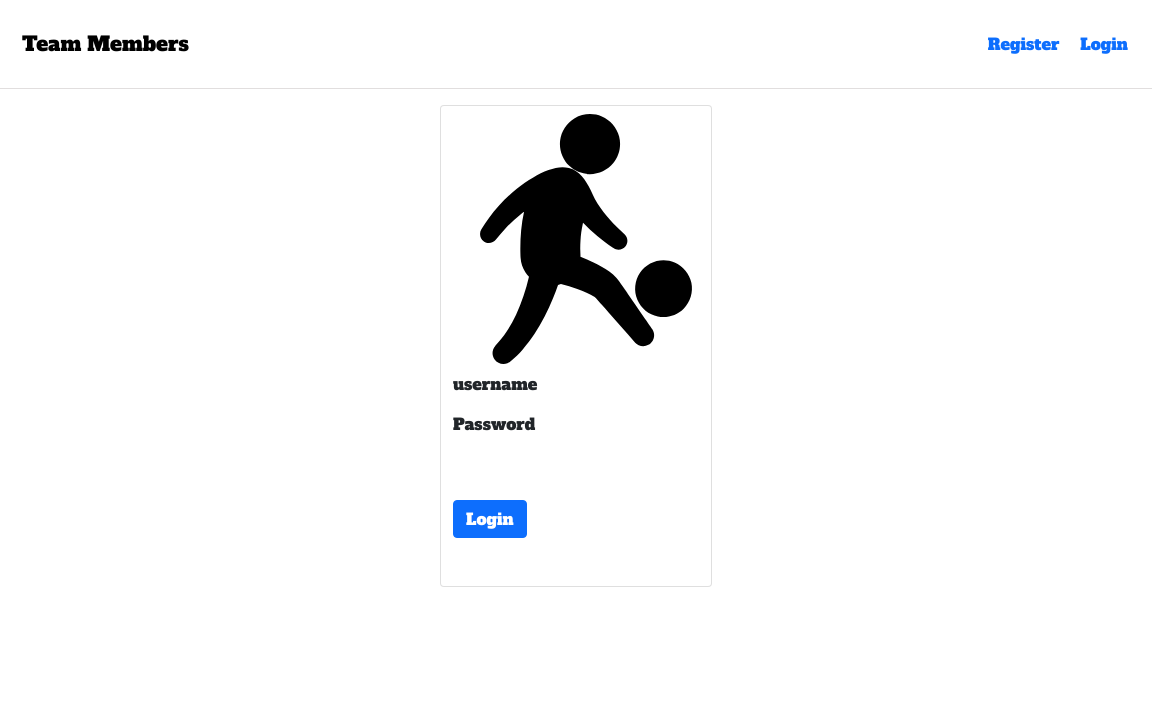
Test: renders the app - navbar links work correctly
The image size is (1152, 720).
Expected: the link "Team Members" is shown, [16,24,189,64]
Expected: the element with test id "login-container" is shown, [440,105,712,587]
Click the link "Register".
click(1021, 44)  # box [983,33,1060,55]
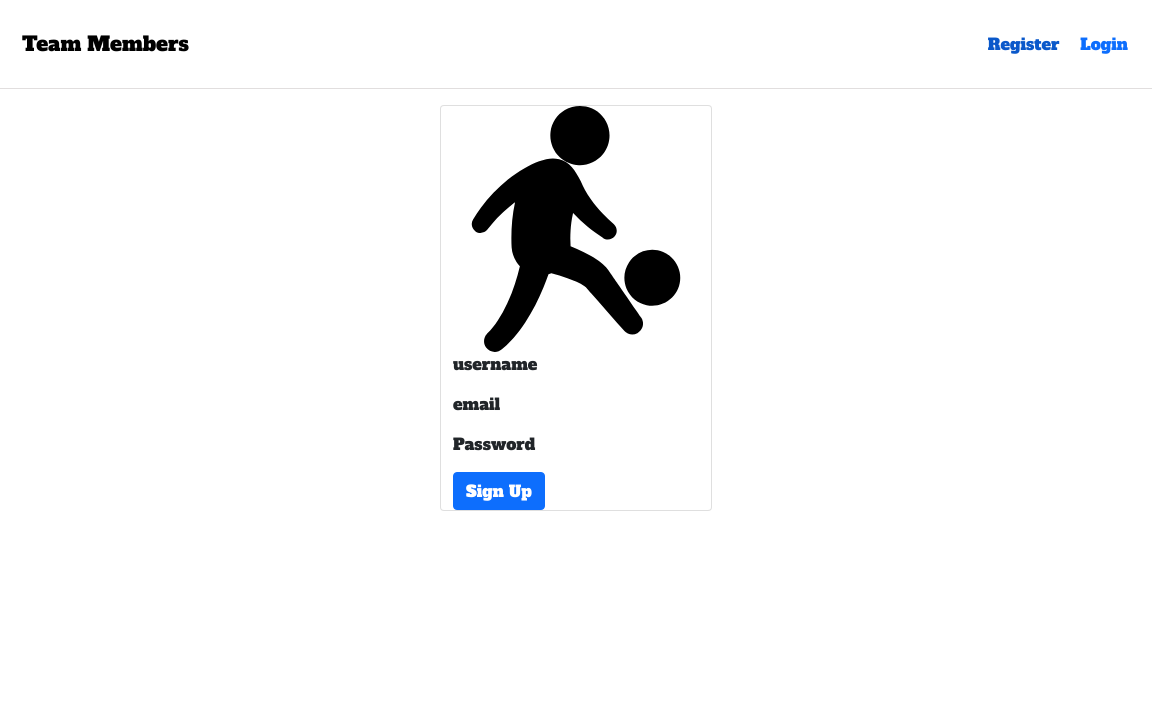
Result: the text "Sign Up" is shown at [466,480,532,502]
